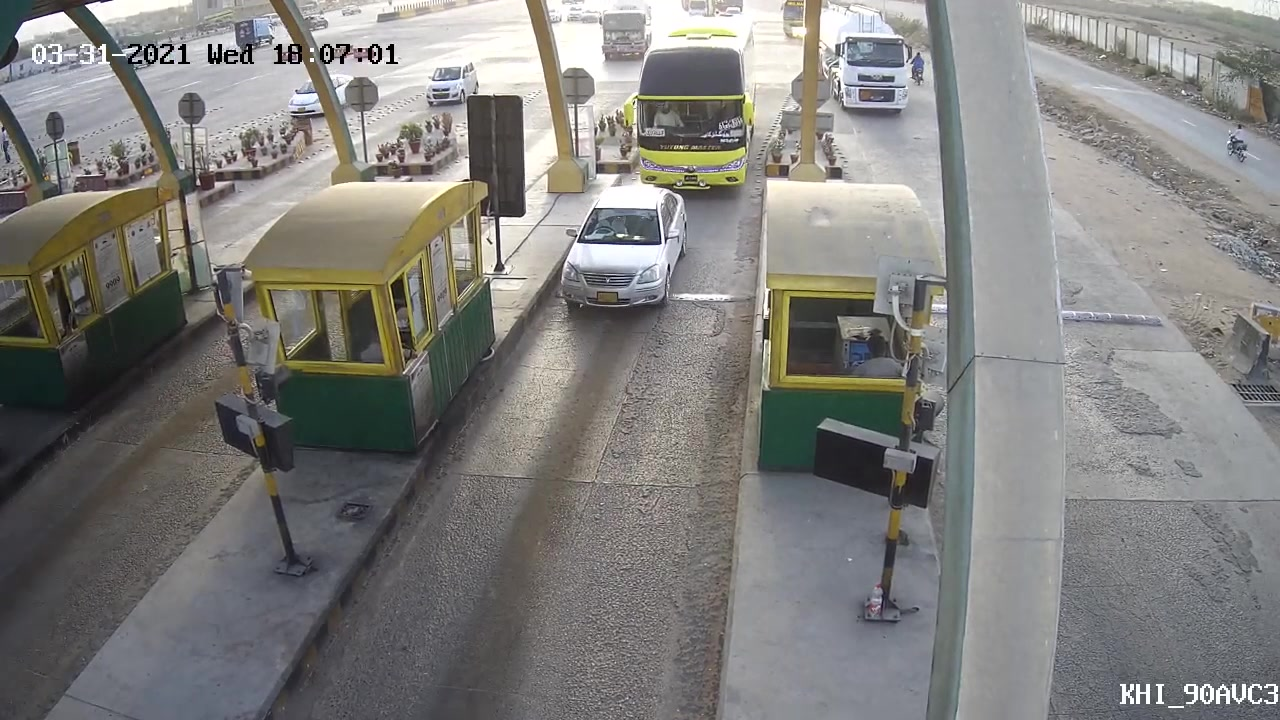F1: (544, 184, 694, 330)
